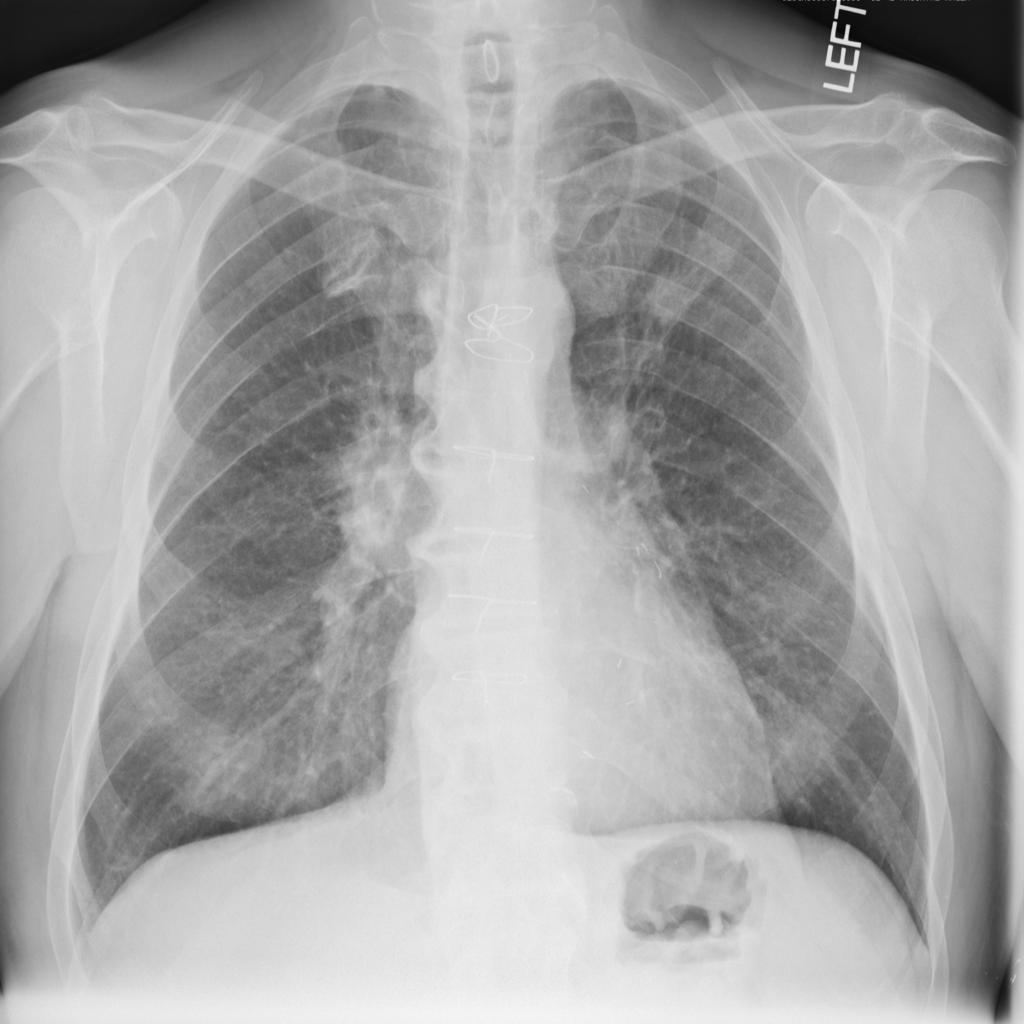nodule: (162, 711, 290, 825)
